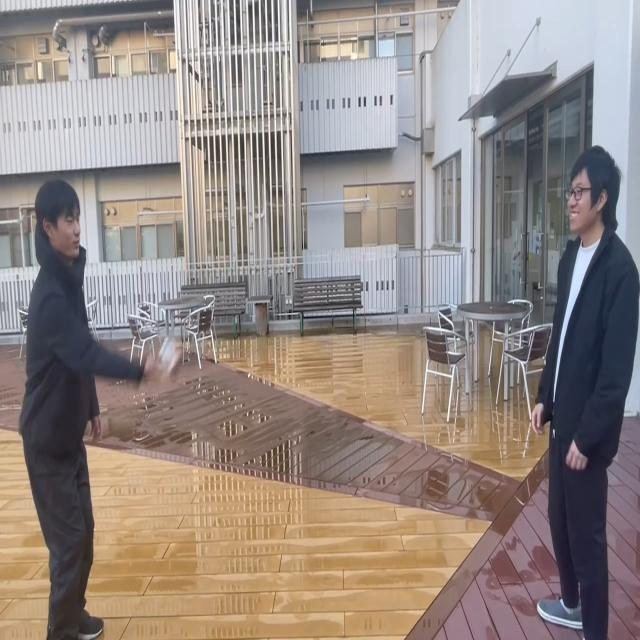bottle: (160, 336, 184, 380)
